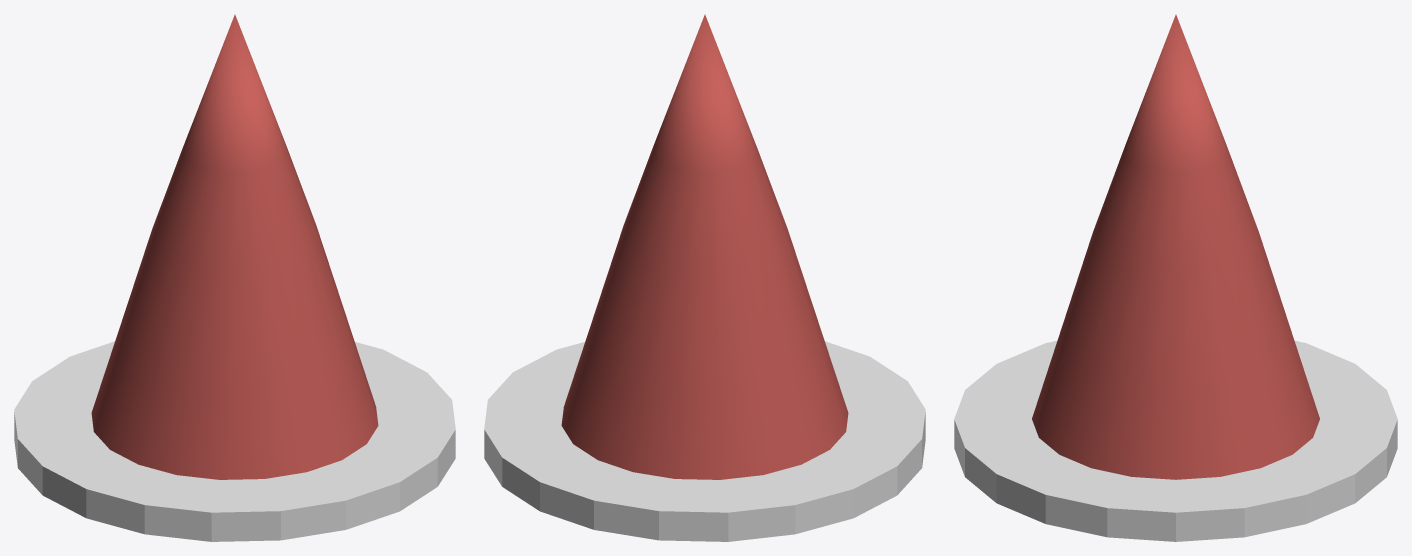
Rendered from Obstacle6.fbx.
3 renders of one model, left to right at view 1: azimuth 30°, elevation 25°; view 2: azimuth 150°, elevation 25°; view 3: azimuth 270°, elevation 25°, orthographic.
Visible parts, largest first — view 1: Cone_Obstacle; view 2: Cone_Obstacle; view 3: Cone_Obstacle.
Part boxes in pixels (x1,y1,x2,y2): Cone_Obstacle: (14, 14, 455, 541); Cone_Obstacle: (484, 14, 925, 541); Cone_Obstacle: (954, 14, 1397, 541).
Bounding box in the file's own units: 4.77 × 5.15 × 4.77.
